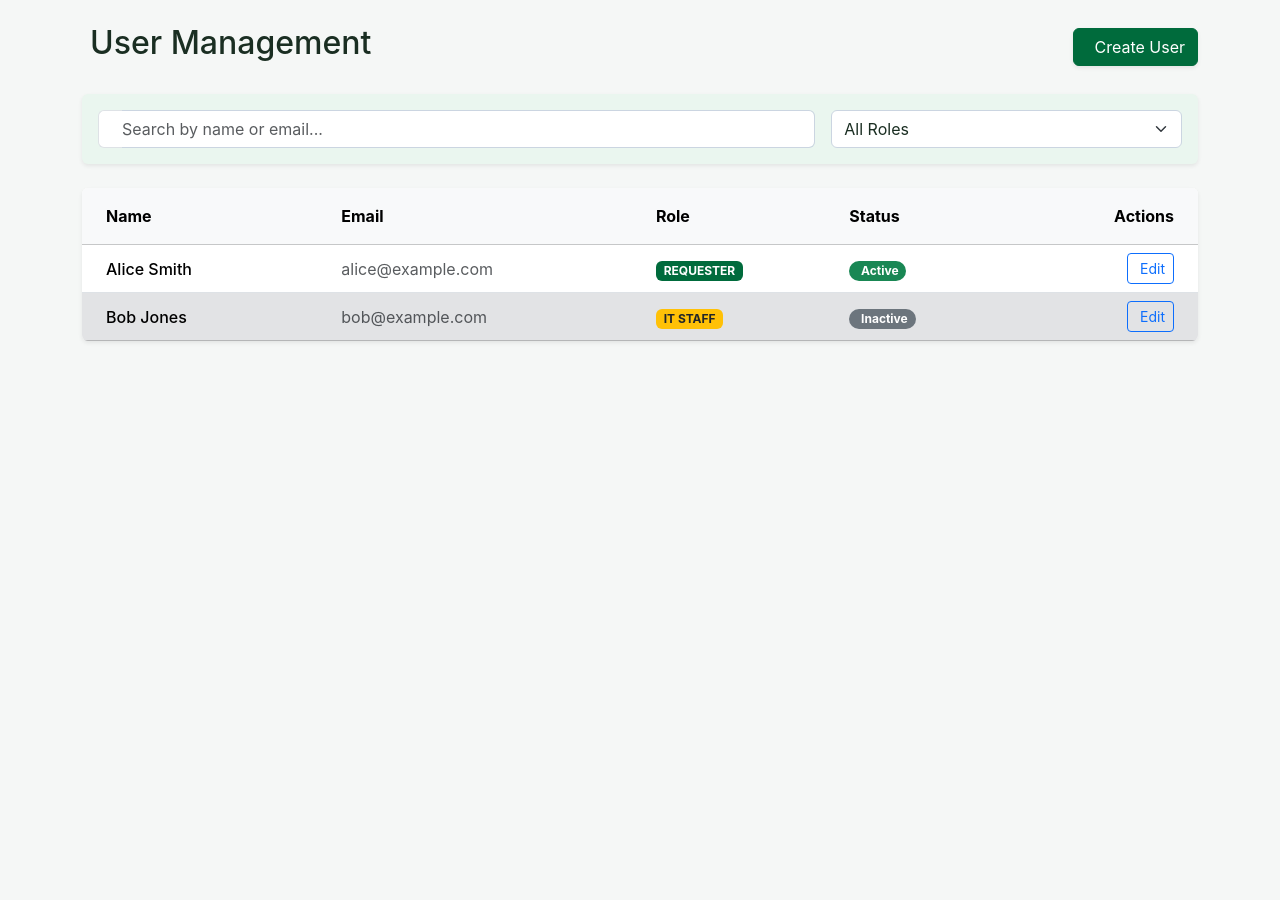
Scenario: UserManagement Component › handles Edit User interaction
Expected: the text "Alice Smith" is shown, [82, 245, 333, 293]
Click the button "Edit" in the row of "Alice Smith" at (1150, 269), box [1127, 253, 1174, 284]
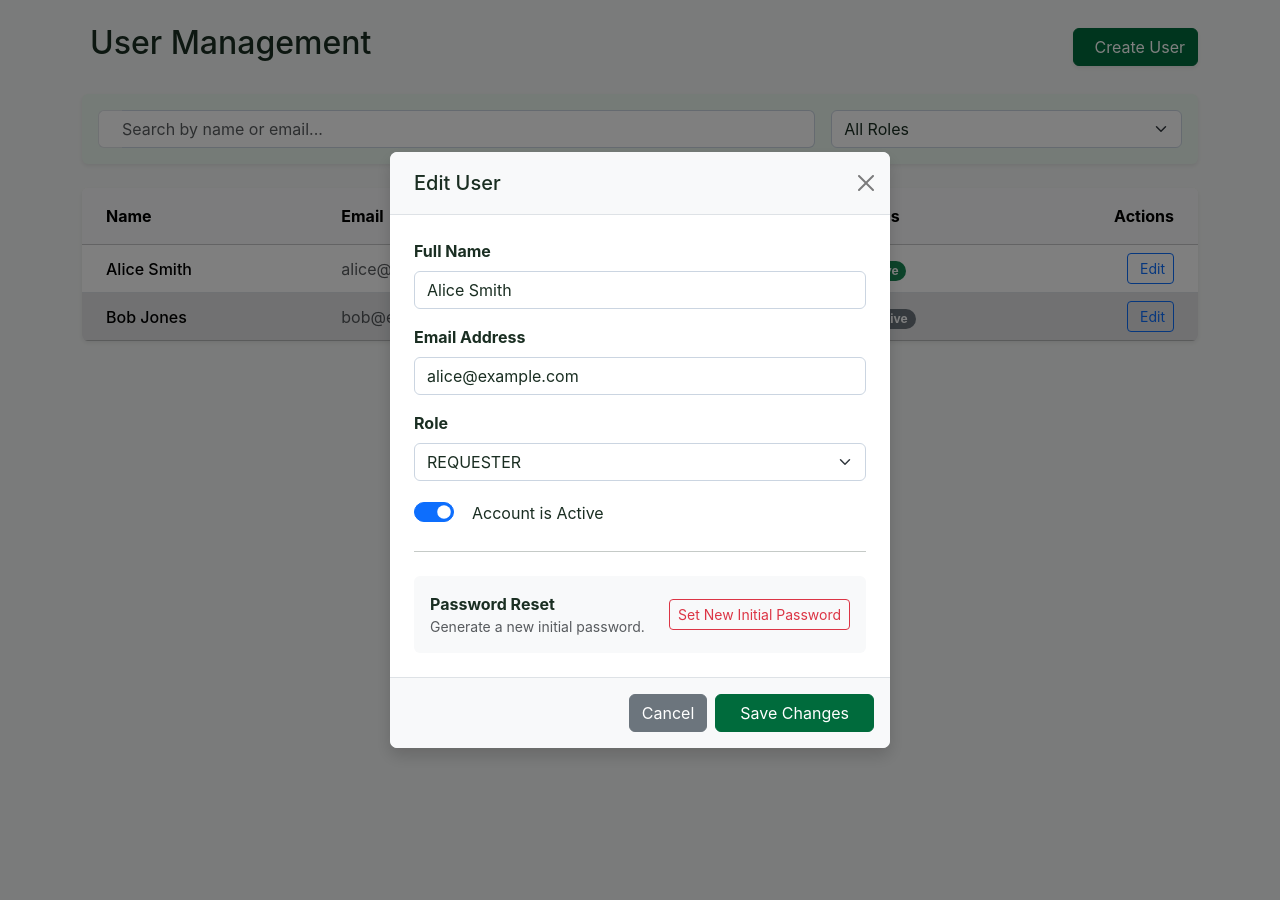
Expected: the heading "Edit User" is shown, [406, 168, 501, 198]
Replace the text in the field below "Full Name" with "Alice Smith Updated" at (640, 290), box [414, 271, 866, 309]
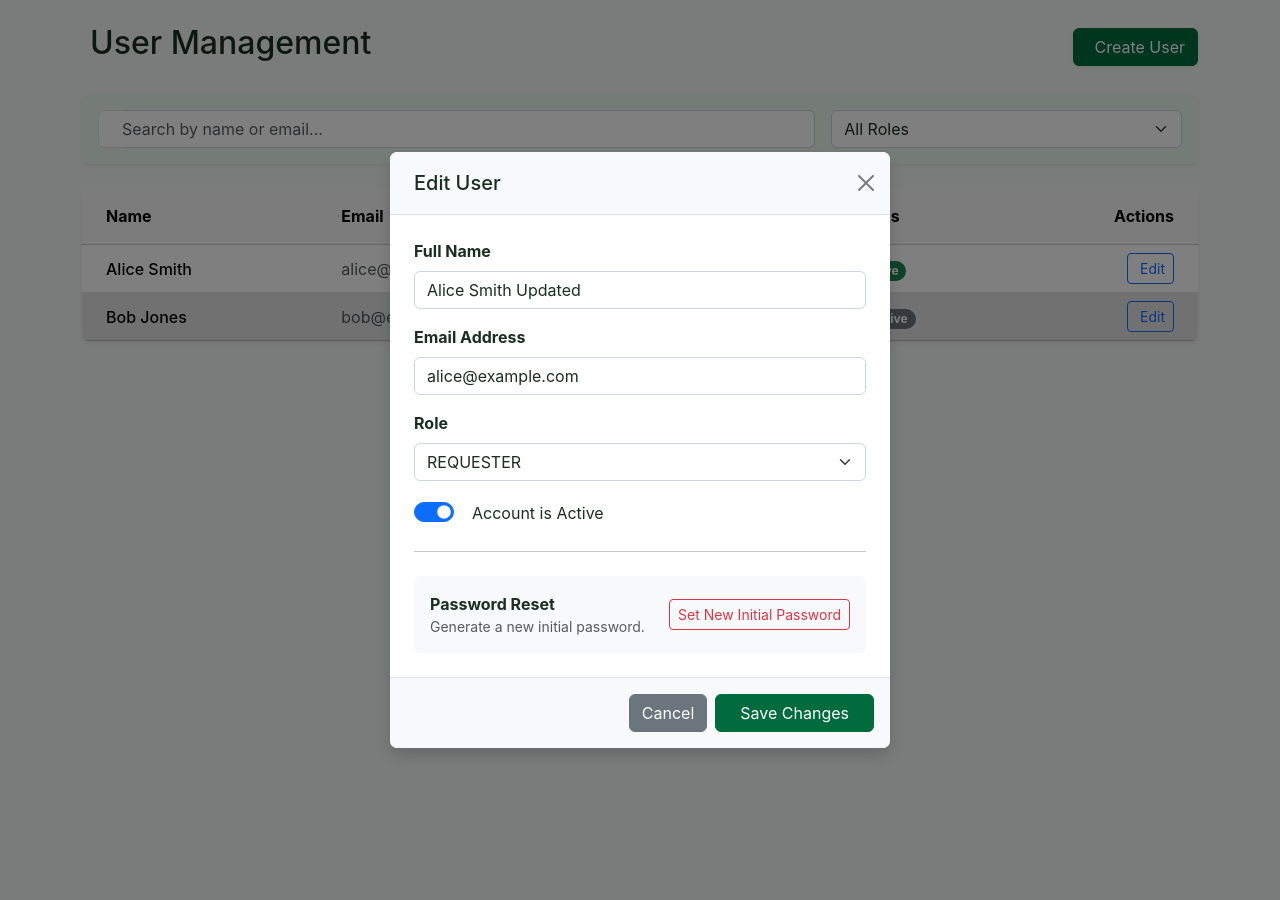
Click the button "Save Changes" at (795, 713), box [715, 694, 874, 732]
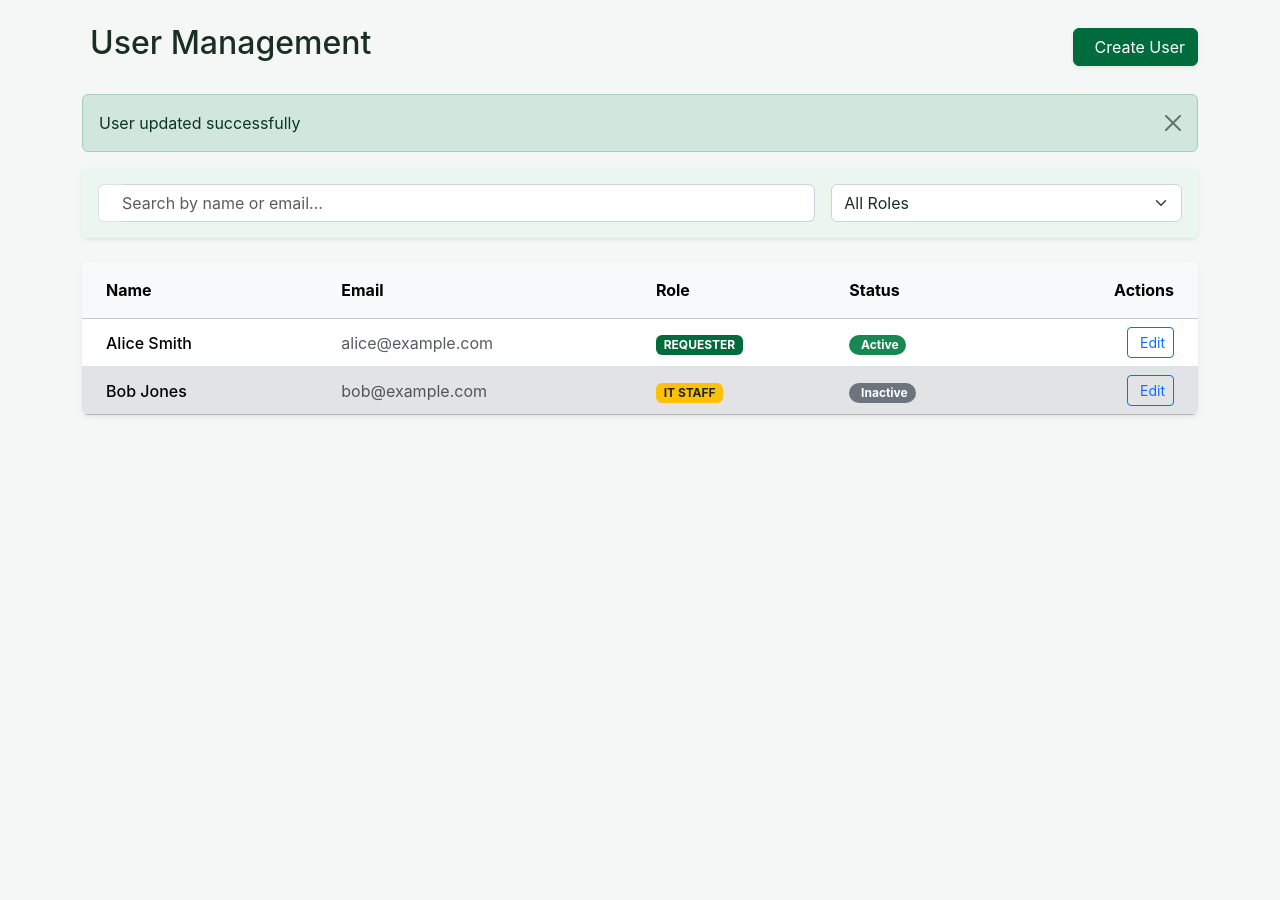
Expected: the text "User updated successfully" is shown, [82, 94, 1198, 152]
